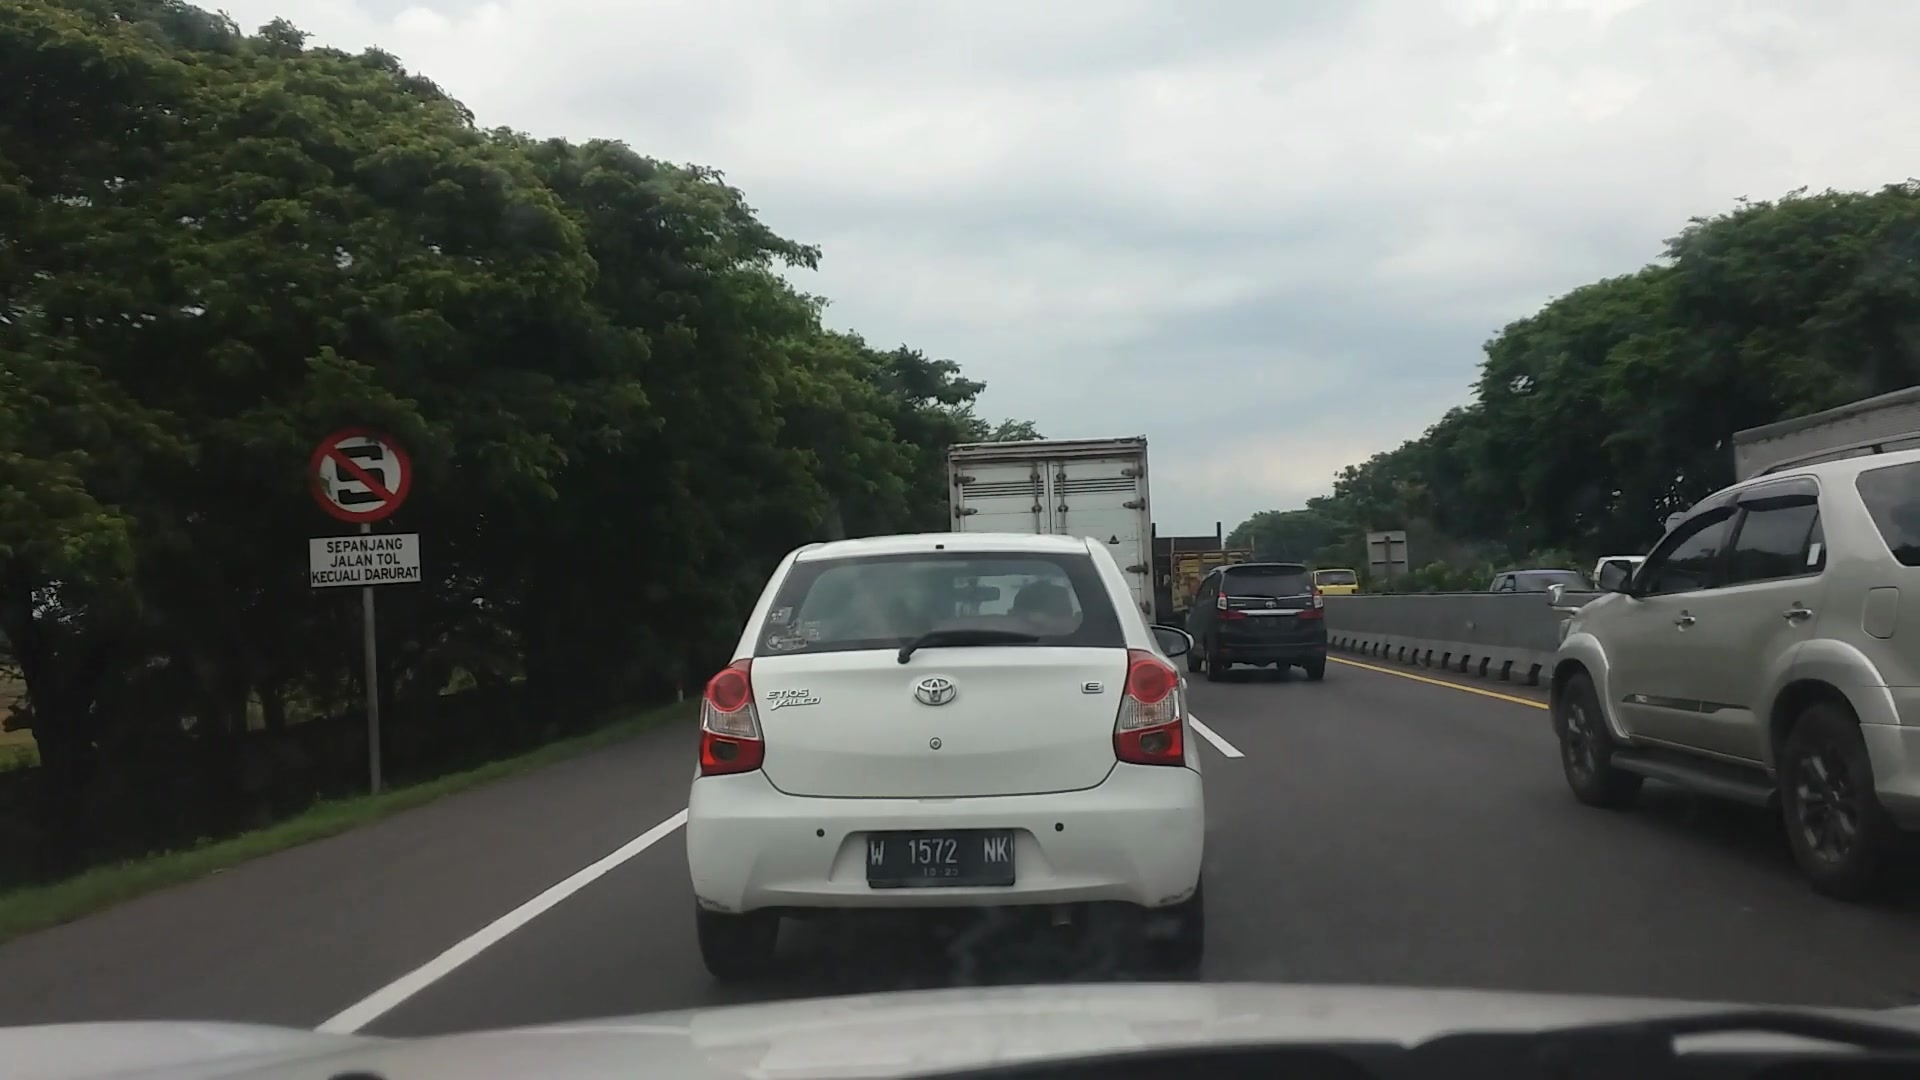plate_positive: (864, 828, 1015, 889)
